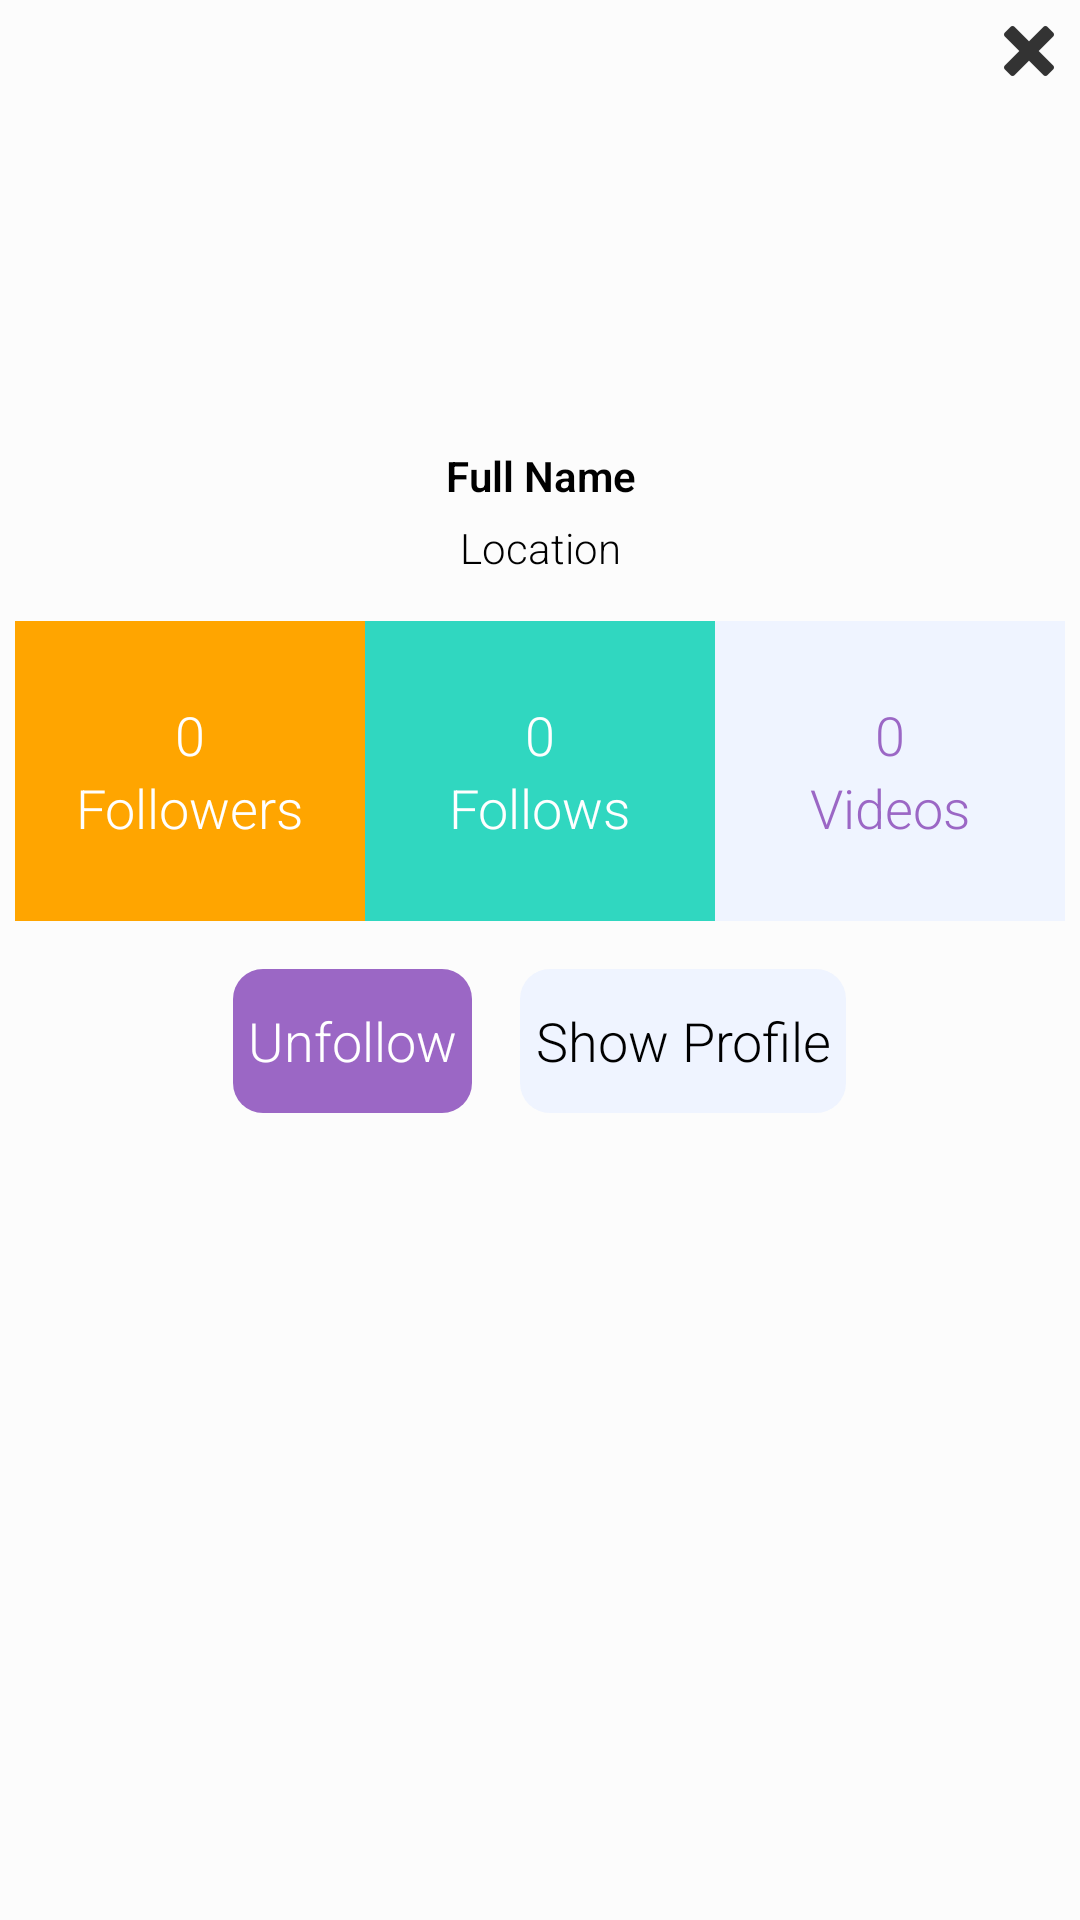

Icon click points for this 1080*1920 phone screenshot, format [x,y]:
times: [1029,51]
